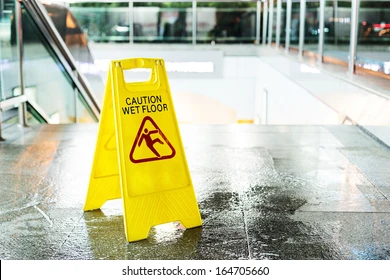wet caution sign: (74, 50, 211, 242)
